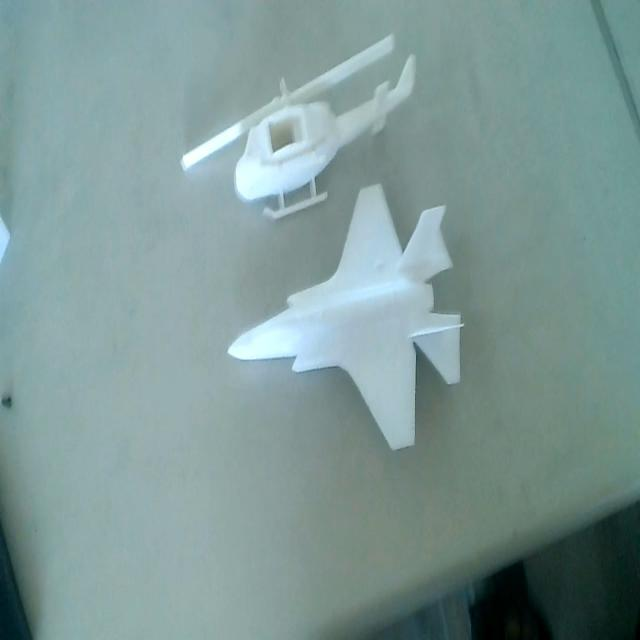Helicopter: (171, 28, 418, 225)
Jet: (215, 181, 465, 458)
